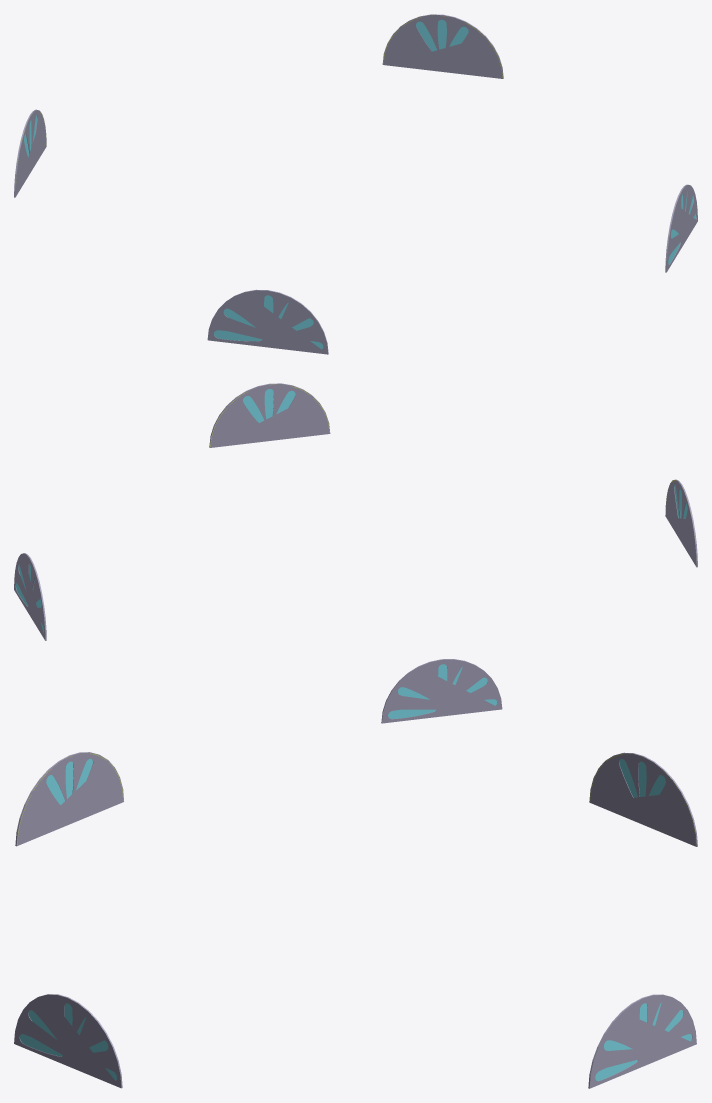
Rendered from WindowsSeparate.fbx.
3 views of the same model, one above another, from view 1: azimuth 30°, elevation 25°; view 2: azimuth 150°, elevation 25°; view 3: azimuth 270°, elevation 25° (orthographic). The views are drawn at different scales.
Visible parts, largest first — view 1: dome.window.003, dome.window.001, dome.window.002, dome.window.004; view 2: dome.window.004, dome.window.002, dome.window.003, dome.window.001; view 3: dome.window.001, dome.window.004, dome.window.003, dome.window.002.
Part boxes in pixels (x1,y1,x2,y2): dome.window.003: (382,14,503,78); dome.window.001: (207,289,328,354); dome.window.002: (14,109,46,197); dome.window.004: (665,184,697,272); dome.window.004: (209,383,330,447); dome.window.002: (381,659,502,723); dome.window.003: (14,553,46,640); dome.window.001: (665,479,697,567); dome.window.001: (15,752,123,846); dome.window.004: (14,994,122,1088); dome.window.003: (588,994,696,1088); dome.window.002: (589,752,697,846).
Size of the model in its own units: 2000 by 221 by 2011.
